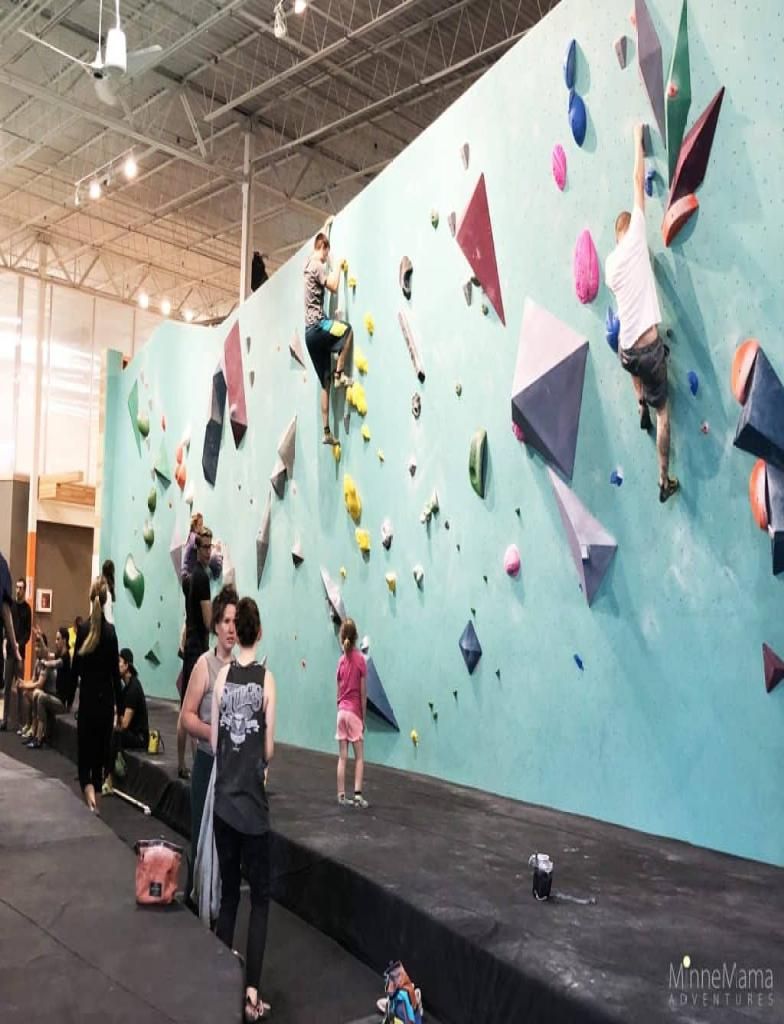downhold: (614, 35, 627, 67)
jib: (433, 709, 438, 720), (495, 669, 500, 680), (515, 507, 520, 517), (470, 607, 475, 616), (484, 575, 488, 583)
pinch: (662, 193, 698, 245), (399, 308, 424, 381)
sidepull: (469, 428, 488, 497), (750, 459, 767, 528), (569, 91, 586, 145), (564, 39, 576, 89)
sloper: (123, 553, 144, 607)
undercling: (731, 339, 760, 404)
volume: (511, 300, 588, 479), (548, 469, 616, 605), (456, 172, 504, 325), (668, 85, 724, 205), (733, 348, 783, 469), (665, 0, 691, 183), (634, 0, 665, 147)
